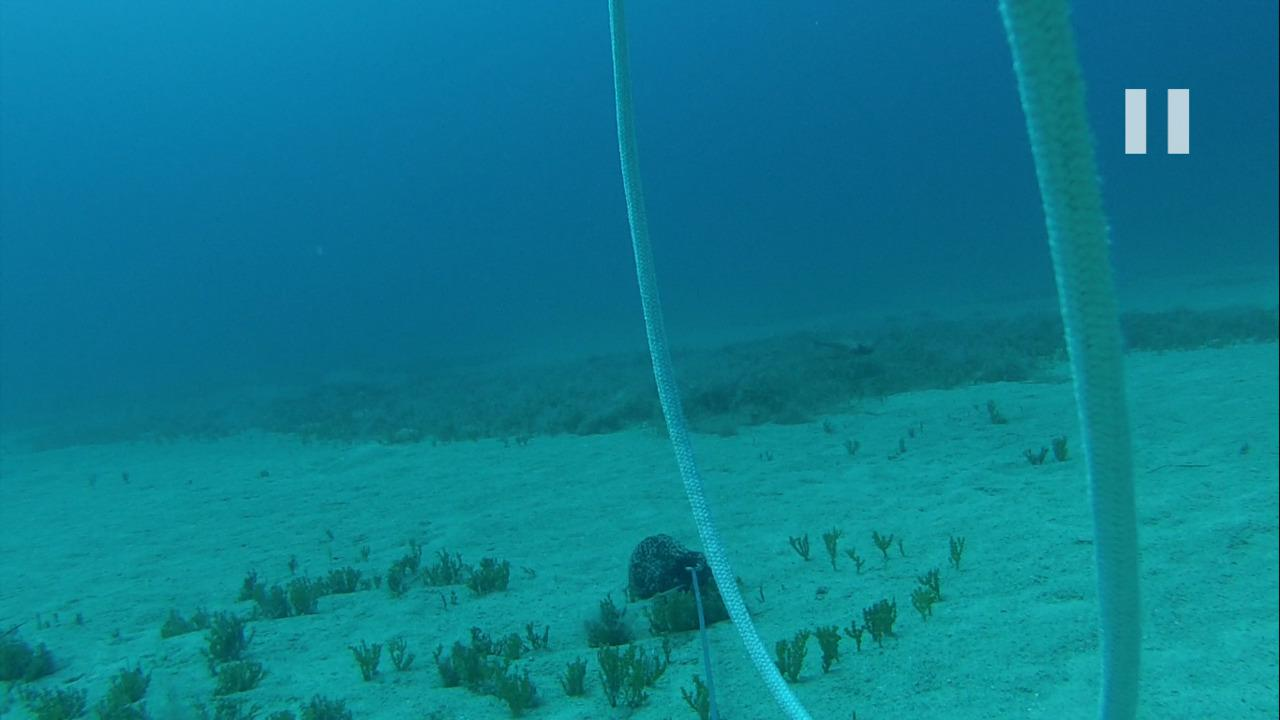dactylopterus: (797, 331, 879, 365)
